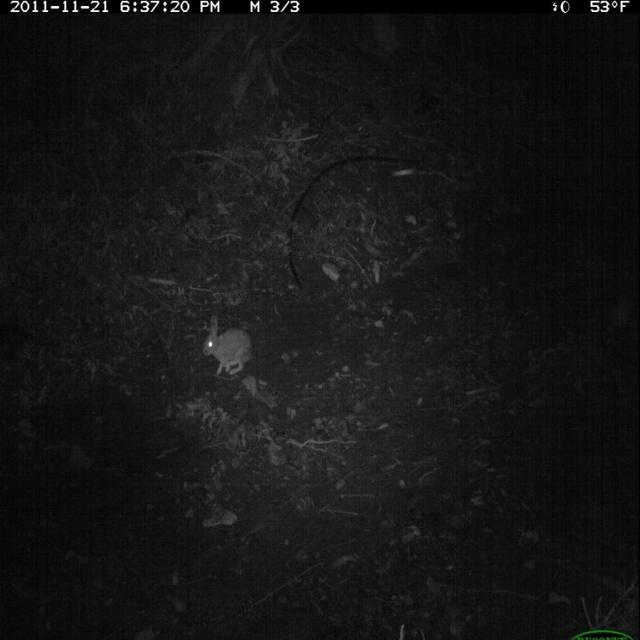rabbit: (201, 310, 258, 382)
